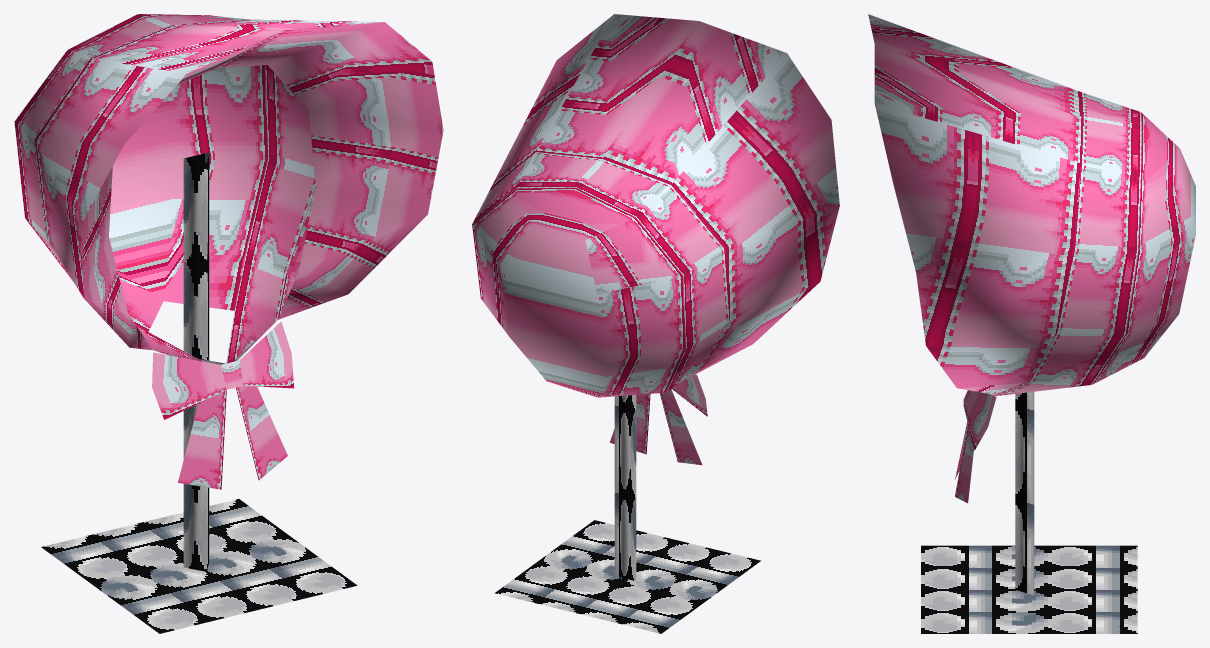
Rendered from 2870head068_c.gltf.
3 renders of one model, left to right at view 1: azimuth 30°, elevation 25°; view 2: azimuth 150°, elevation 25°; view 3: azimuth 270°, elevation 25°, orthographic. The views are drawn at different scales.
Visible parts, largest first — view 1: 2870head068_c; view 2: 2870head068_c; view 3: 2870head068_c.
Part boxes in pixels (box(x1,y1,x2,y2)): 2870head068_c: box(14, 14, 443, 633); 2870head068_c: box(472, 14, 839, 633); 2870head068_c: box(868, 14, 1195, 633).
Size of the model in its own units: 0.8562 by 1.34 by 0.7261.
2 materials, 2 textured.
